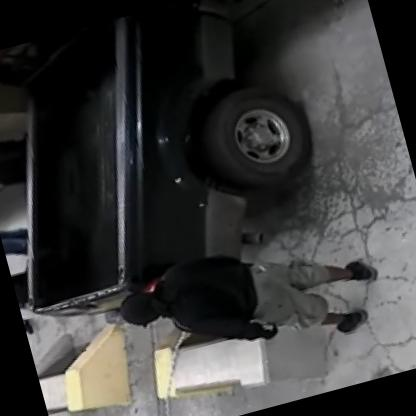Human Body: (100, 195, 392, 398)
